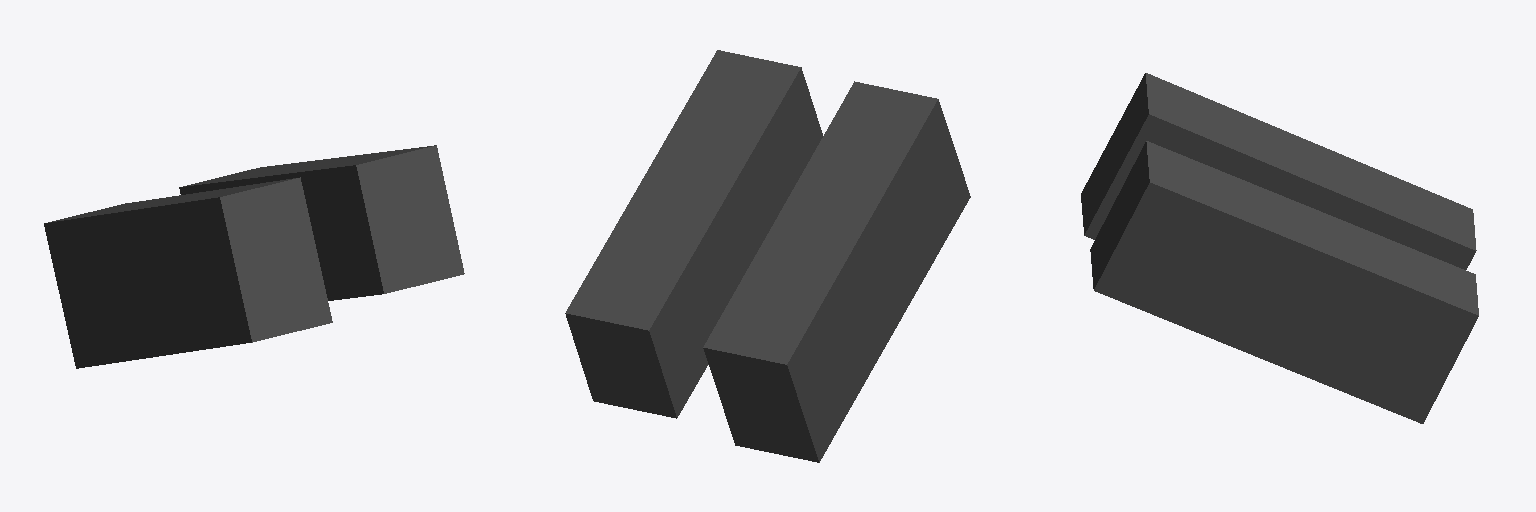
The model's file is R-pausebutton.obj.
3 renders of one model, left to right at view 1: azimuth 30°, elevation 25°; view 2: azimuth 150°, elevation 25°; view 3: azimuth 270°, elevation 25°, orthographic.
Parts seen in each view (by area): view 1: pCube2 pCube4, pCube4; view 2: pCube2 pCube4, pCube4; view 3: pCube4, pCube2 pCube4.
Boxes of the visible parts, x1,y1,x2,y2 form: pCube2 pCube4: [44, 177, 332, 368]; pCube4: [179, 145, 464, 300]; pCube2 pCube4: [703, 81, 970, 462]; pCube4: [565, 50, 822, 418]; pCube4: [1090, 141, 1478, 423]; pCube2 pCube4: [1081, 73, 1476, 269].
Size of the model in its own units: 0.08 by 0.088 by 0.1193.